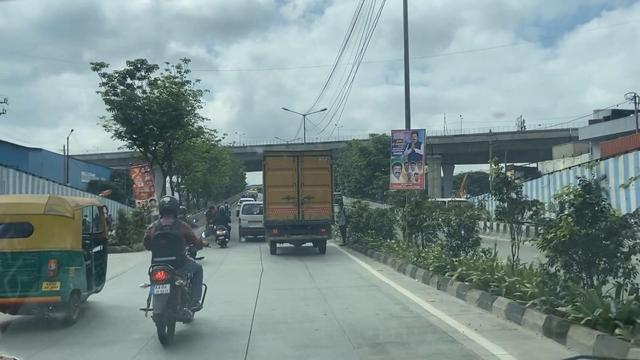HMV: (266, 154, 328, 248)
LMV: (0, 199, 108, 330), (150, 200, 208, 341), (215, 200, 236, 251)
